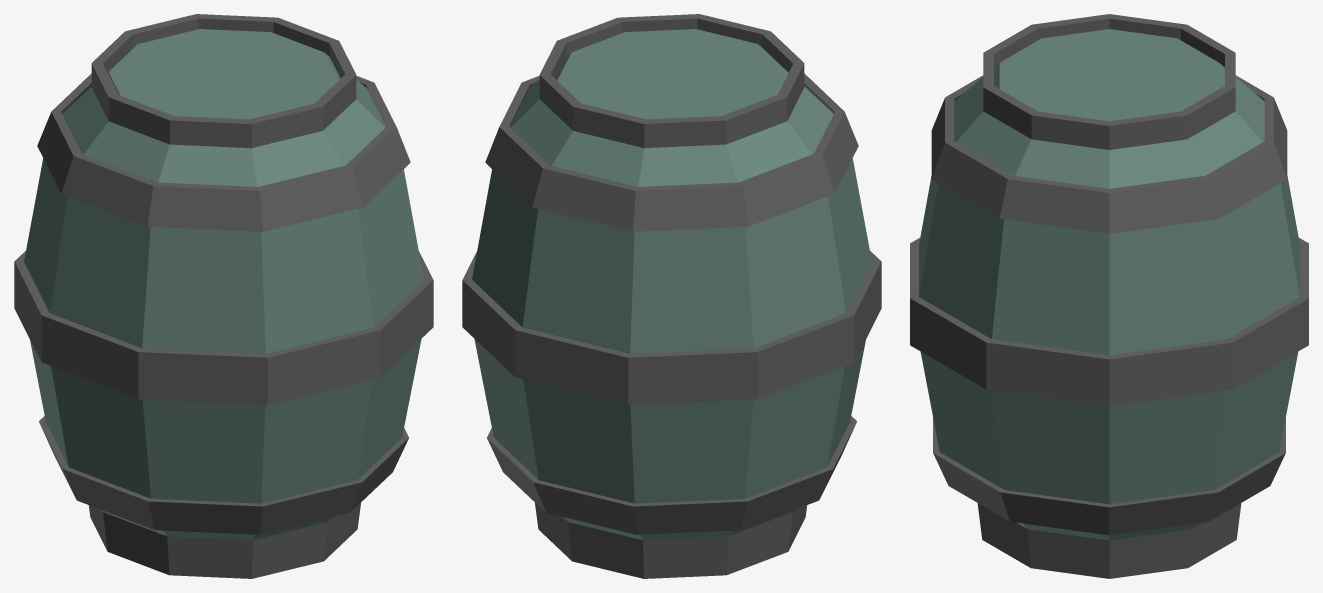
Rendered from barrel_b003.glb.
3 renders of one model, left to right at view 1: azimuth 30°, elevation 25°; view 2: azimuth 150°, elevation 25°; view 3: azimuth 270°, elevation 25°, orthographic.
Visible parts, largest first — view 1: barrel_b003; view 2: barrel_b003; view 3: barrel_b003.
Part boxes in pixels (x1=…): barrel_b003: x1=14, y1=14, x2=433, y2=578; barrel_b003: x1=462, y1=14, x2=881, y2=578; barrel_b003: x1=910, y1=14, x2=1308, y2=578.
Bounding box in the file's own units: 0.4359 × 0.5187 × 0.4145.
Materials: 1 (1 with a texture image).
